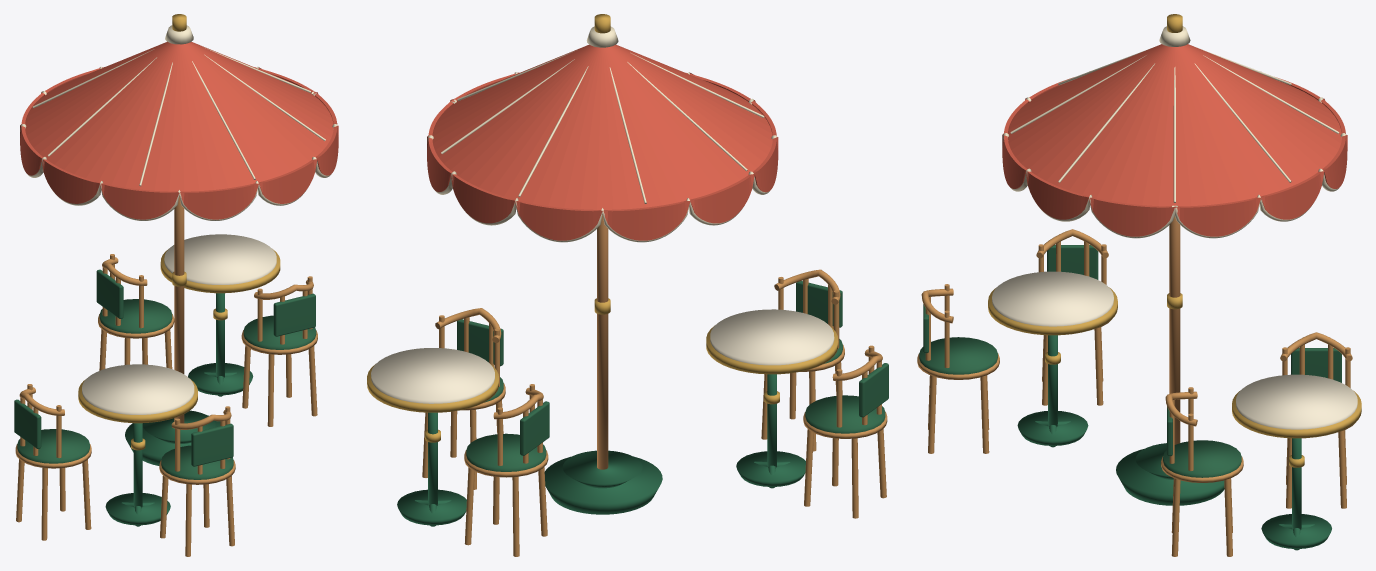
Rendered from street_cafe_awning.glb.
3 renders of one model, left to right at view 1: azimuth 30°, elevation 25°; view 2: azimuth 150°, elevation 25°; view 3: azimuth 270°, elevation 25°, orthographic. The views are drawn at different scales.
Parts seen in each view (by area): view 1: Parasol, Valance, TableLTop, TableRTop, Pole, TableLChairASeat, TableRChairASeat, TableLChairBBackWeave, TableRChairBBackWeave, TableLFoot, TableRFoot, TableRChairBSeat (+25 smaller); view 2: Parasol, Valance, TableLTop, TableRTop, Base, Pole, BaseTop, TableLChairASeat, TableRChairASeat, TableLFoot, TableRFoot, TableLRim (+8 smaller); view 3: Parasol, Valance, TableLTop, TableRTop, Base, TableRChairBSeat, TableLChairBSeat, Pole, TableRFoot, TableLFoot, TableRRim, TableLRim (+10 smaller).
Part boxes in pixels (x1,y1,x2,y2): Parasol: [25, 41, 333, 191]; Valance: [20, 67, 338, 219]; TableLTop: [82, 364, 194, 414]; TableRTop: [164, 234, 276, 284]; Pole: [174, 196, 184, 423]; TableLChairASeat: [17, 429, 89, 463]; TableRChairASeat: [99, 299, 172, 333]; TableLChairBBackWeave: [191, 423, 233, 466]; TableRChairBBackWeave: [273, 293, 315, 336]; TableLFoot: [105, 493, 170, 525]; TableRFoot: [188, 363, 253, 395]; TableRChairBSeat: [243, 315, 316, 349]; Parasol: [432, 44, 772, 209]; Valance: [427, 72, 778, 240]; TableLTop: [710, 309, 834, 365]; TableRTop: [371, 348, 494, 403]; Base: [544, 456, 662, 514]; Pole: [597, 215, 608, 469]; BaseTop: [562, 450, 642, 488]; TableLChairASeat: [805, 395, 885, 433]; TableRChairASeat: [466, 433, 546, 471]; TableLFoot: [736, 451, 805, 486]; TableRFoot: [397, 489, 466, 525]; TableLRim: [706, 325, 838, 374]; Parasol: [1008, 44, 1341, 206]; Valance: [1002, 77, 1347, 236]; TableLTop: [992, 271, 1113, 326]; TableRTop: [1236, 374, 1357, 429]; Base: [1116, 449, 1224, 505]; TableRChairBSeat: [1163, 440, 1241, 477]; TableLChairBSeat: [919, 337, 997, 374]; Pole: [1169, 216, 1180, 444]; TableRFoot: [1261, 514, 1331, 548]; TableLFoot: [1017, 411, 1088, 445]; TableRRim: [1232, 390, 1361, 438]; TableLRim: [988, 287, 1117, 335].
Bounding box in the file's own units: 2.26 × 2.63 × 2.26.
